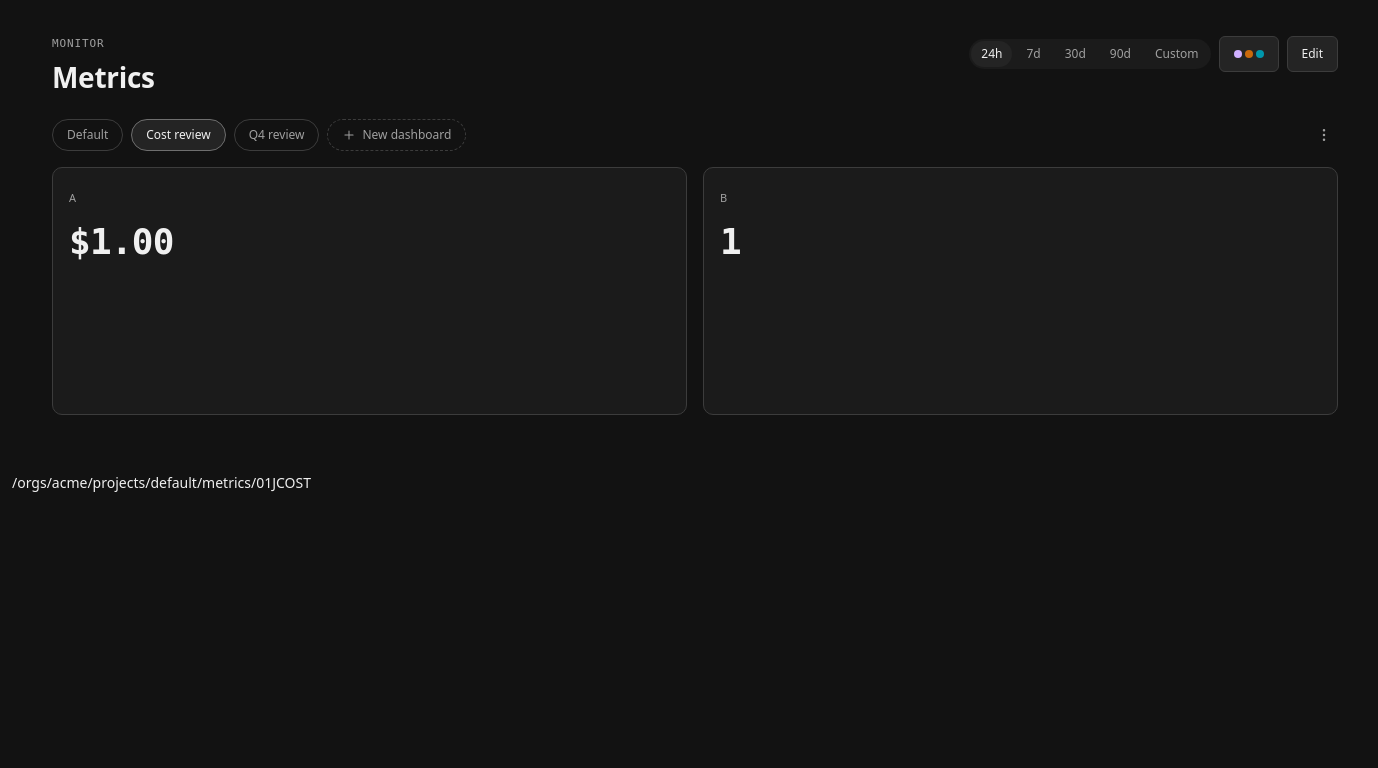
editing › editDoneWritesTheWholeDashboardOnceAndLeavesEditMode
The width and height of the screenshot is (1378, 768).
Click the button "Edit": click(1312, 54) [1286, 36, 1338, 72]
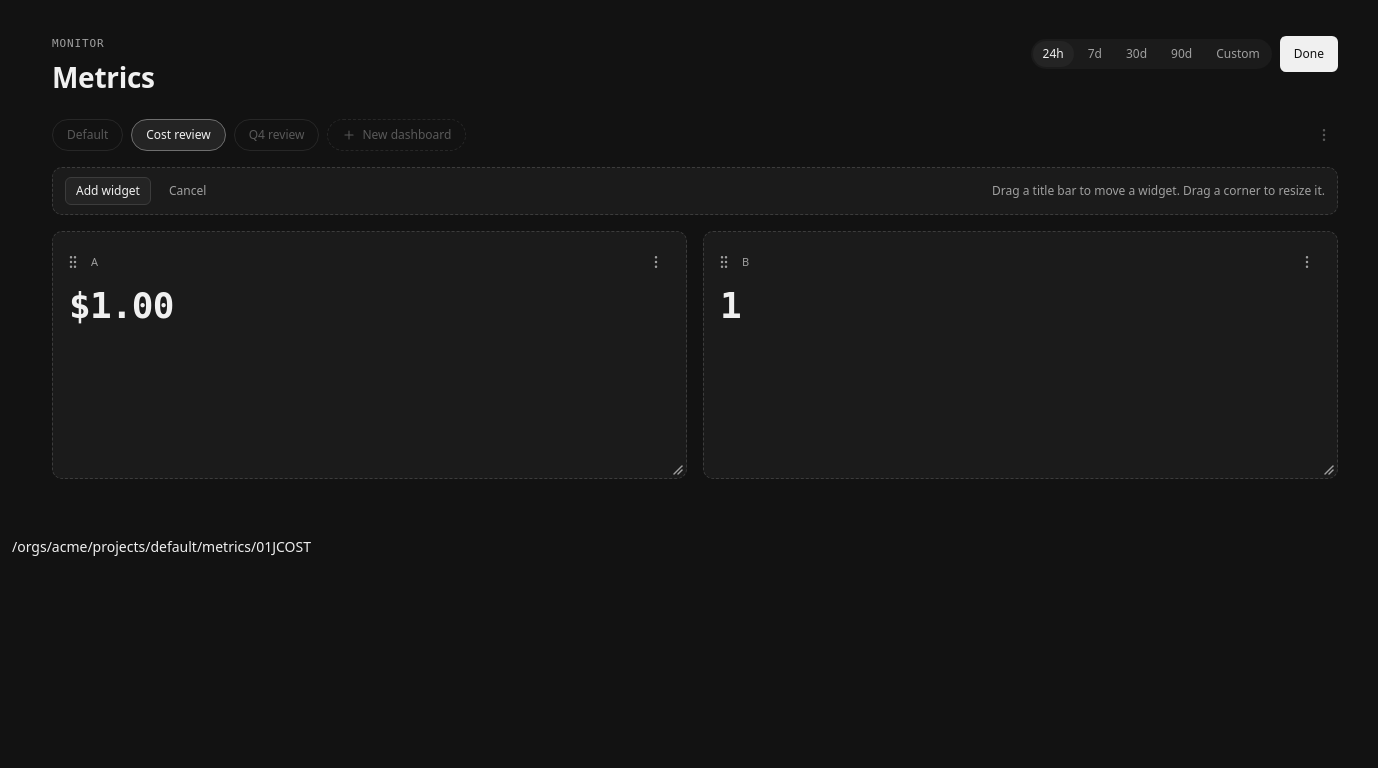
Result: the element named "Edit dashboard" is shown at [52, 167, 1338, 215]
Result: the text "Drag a title bar to move a widget. Drag a corner to resize it." is shown at [992, 182, 1325, 200]
Result: the button "Default" is disabled at [52, 119, 123, 151]
Click the button named "B actions": click(1307, 262) [1293, 248, 1321, 276]
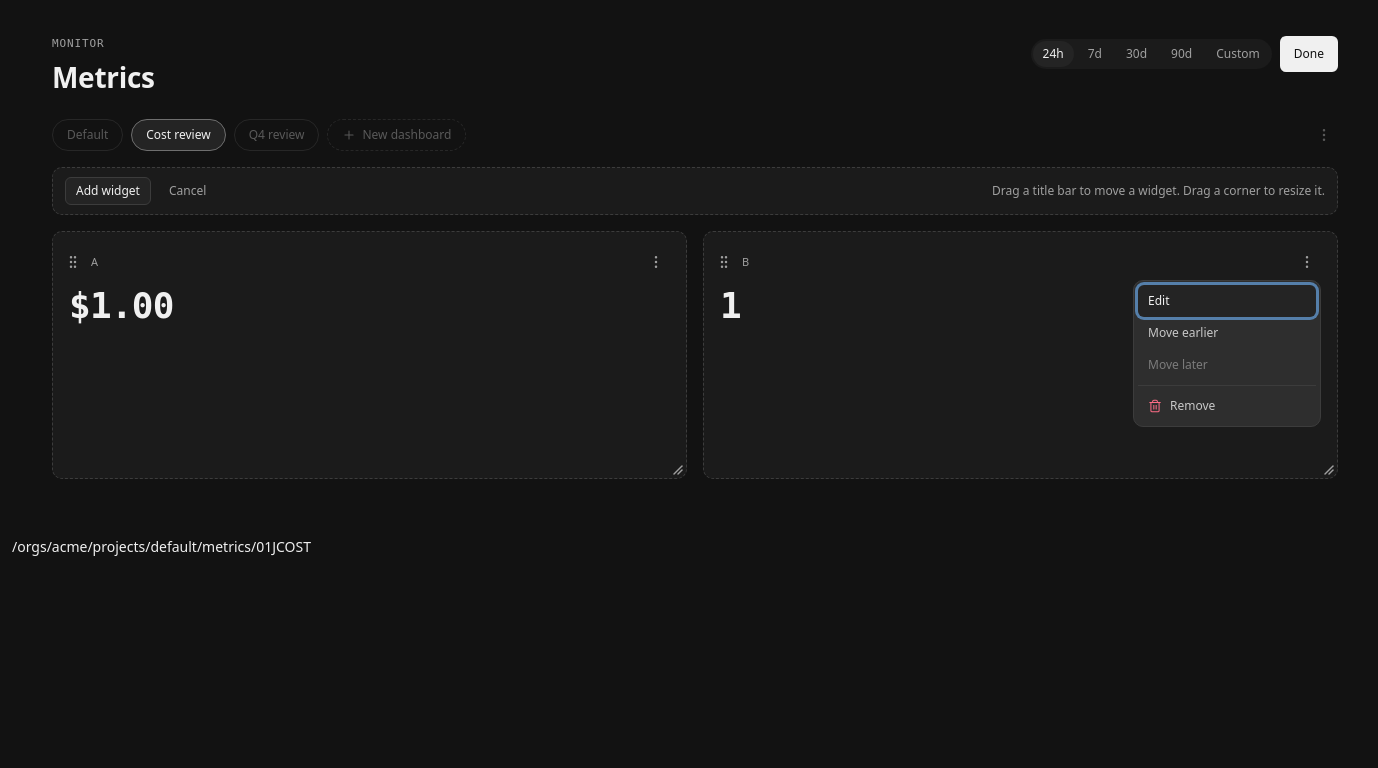
Click the menu item "Remove": click(1227, 406) [1138, 390, 1316, 422]
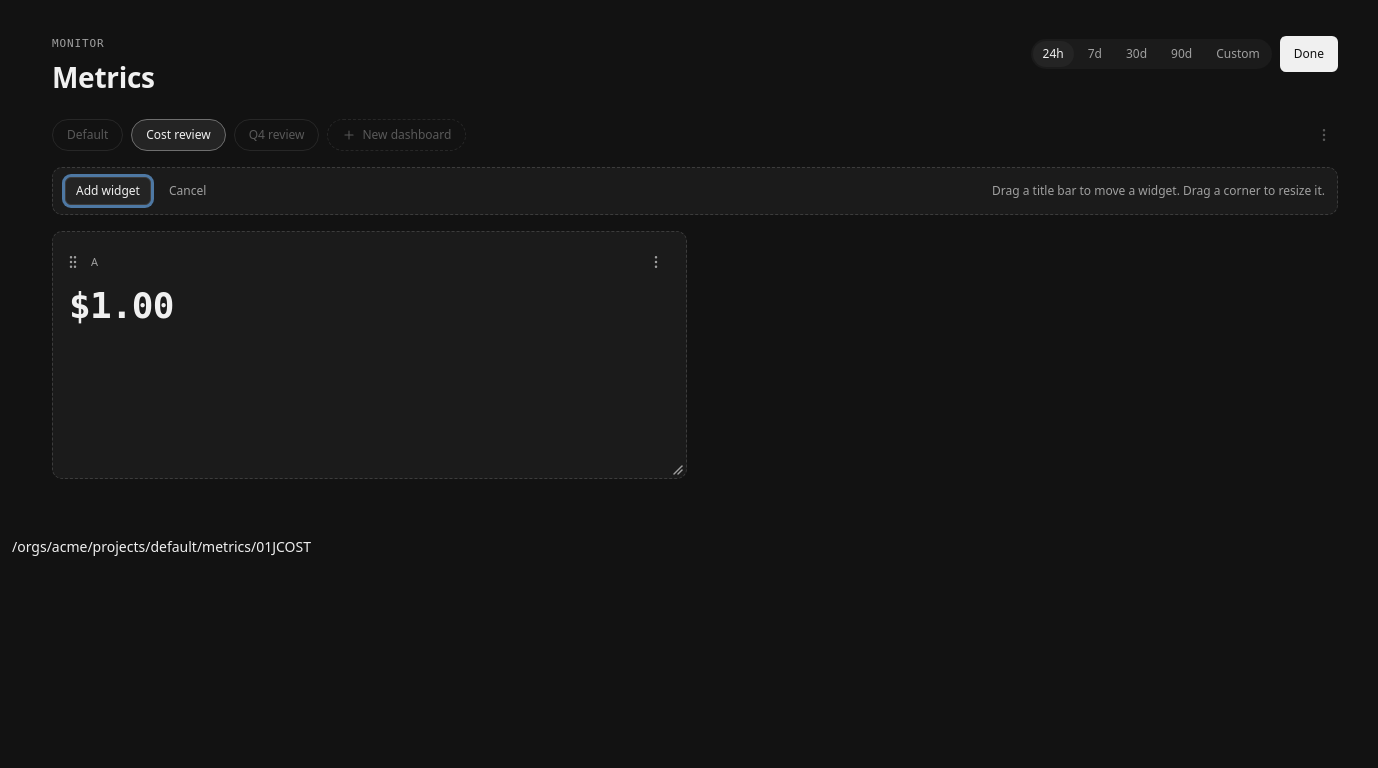
Click the button "Done": click(1309, 54) [1280, 36, 1338, 72]
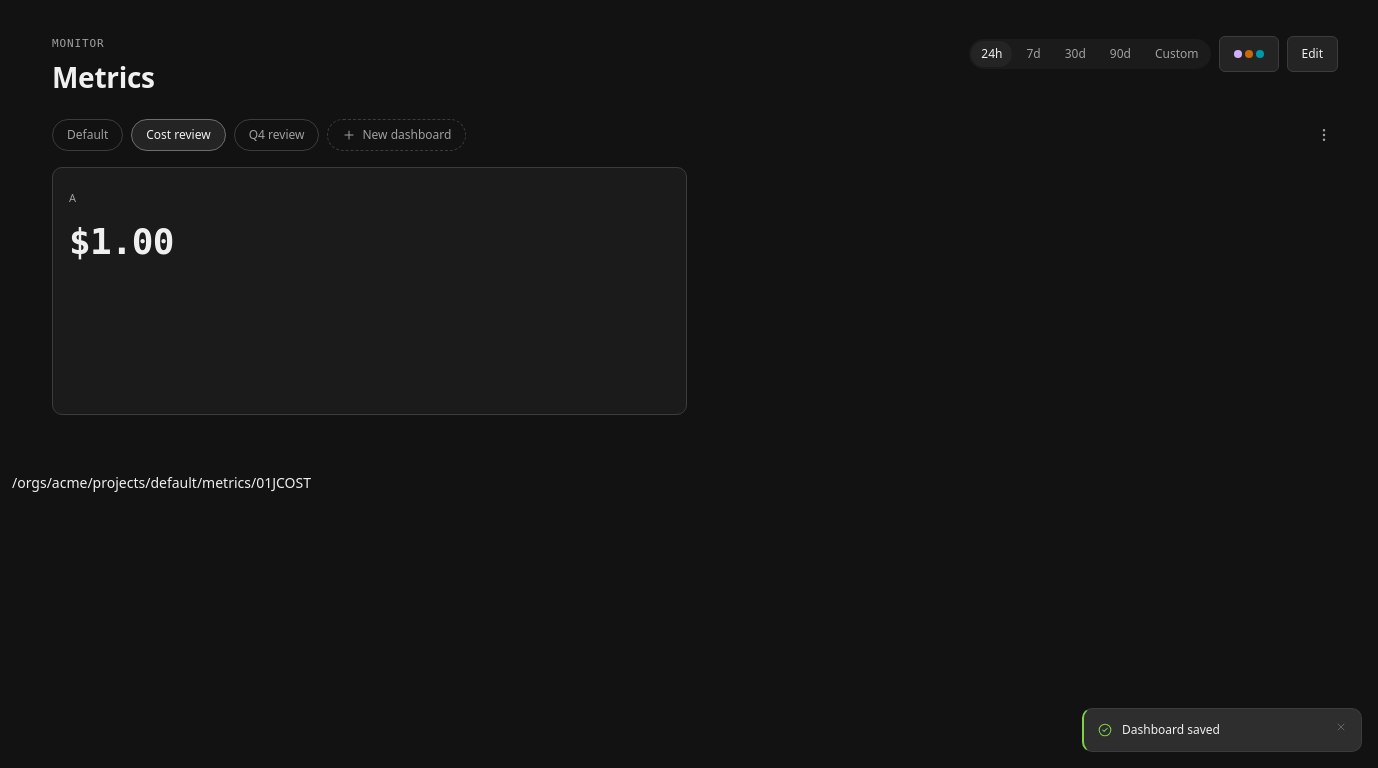
Result: the button "Done" is gone
